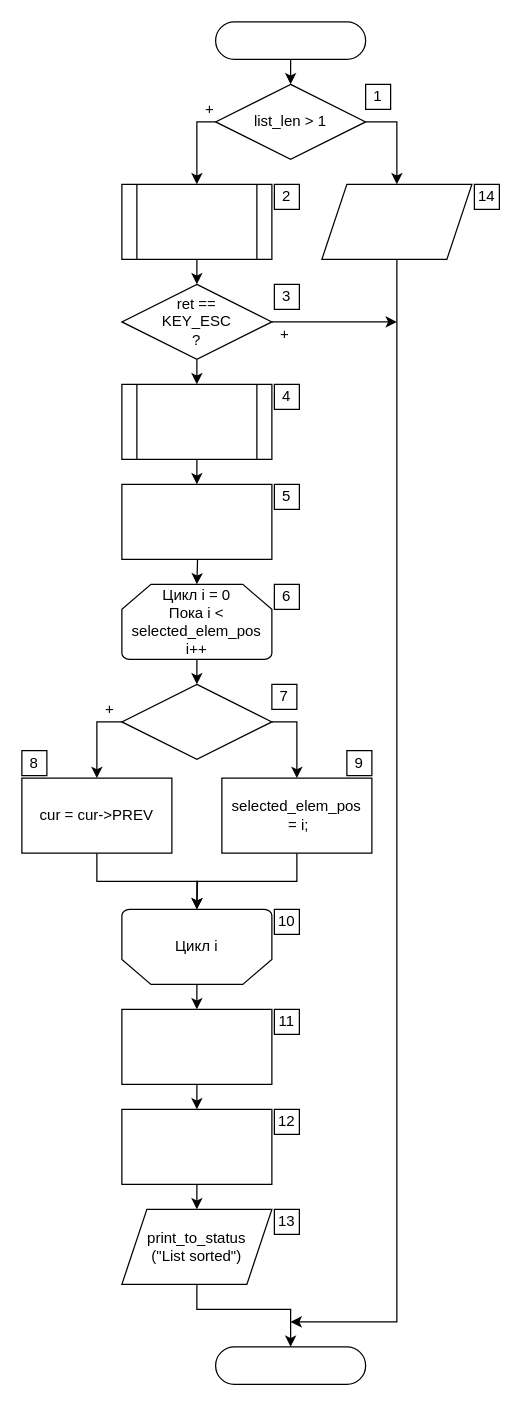
Some shapes in this 521 by 1406 pixel diagram are drawn without their labels. The centre of each missing label's shape, as x and y in pixels:
cur->PREV: (x=196, y=721)
error_or_mistake ("Nothing to sort"): (x=396, y=221)
first_elem_on_screen = cur;: (x=196, y=1046)
int ret = header_select_column (&sort_by_field): (x=196, y=221)
ListElement * cur = selected_element: (x=196, y=521)
merge_sort (sort_by_field);: (x=196, y=421)
start_quote(); redraw_scroll();: (x=196, y=1146)
конец: (x=290, y=1365)
начало menu_sort(): (x=290, y=40)
